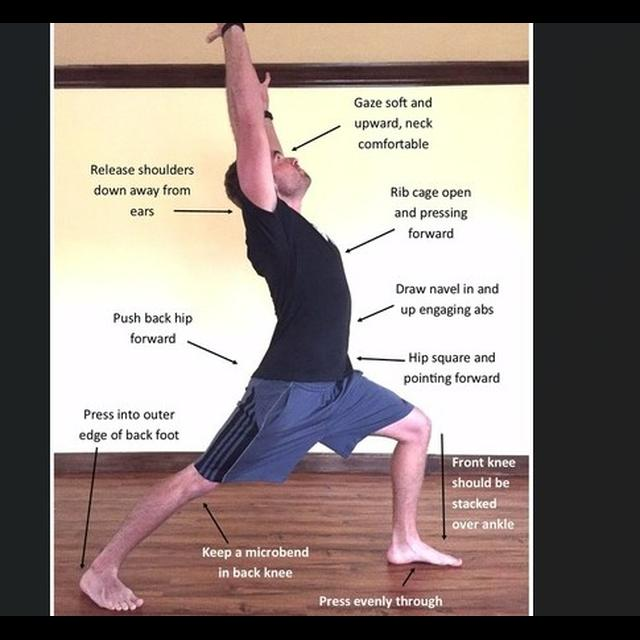Warrior_I: (73, 29, 476, 614)
